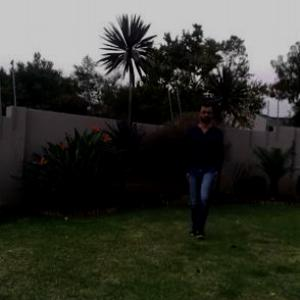follow: (182, 100, 222, 234)
